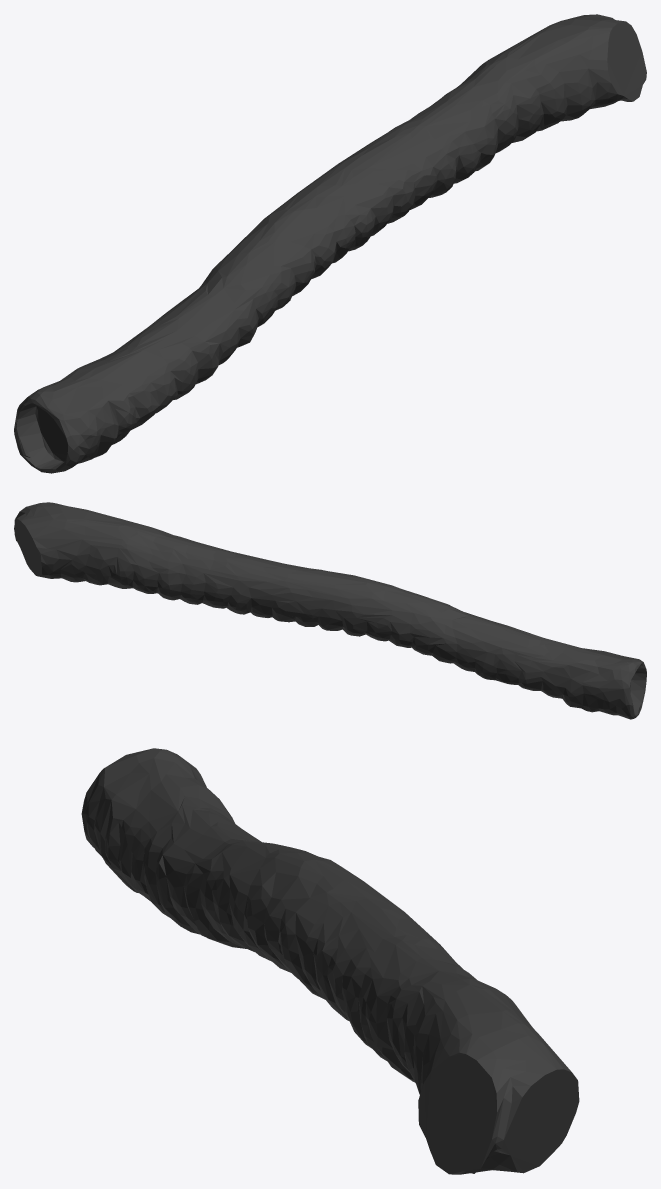
Rendered from Trachea_1.glb.
3 renders of one model, top to bottom at view 1: azimuth 30°, elevation 25°; view 2: azimuth 150°, elevation 25°; view 3: azimuth 270°, elevation 25°, orthographic. The views are drawn at different scales.
Visible parts, largest first — view 1: Trachea_1; view 2: Trachea_1; view 3: Trachea_1.
Boxes of the visible parts, x1=… form: Trachea_1: x1=14, y1=14, x2=646, y2=473; Trachea_1: x1=14, y1=502, x2=646, y2=719; Trachea_1: x1=81, y1=748, x2=579, y2=1174.
Size of the model in its own units: 6.31 by 1.67 by 2.5.
1 material, 1 textured.
